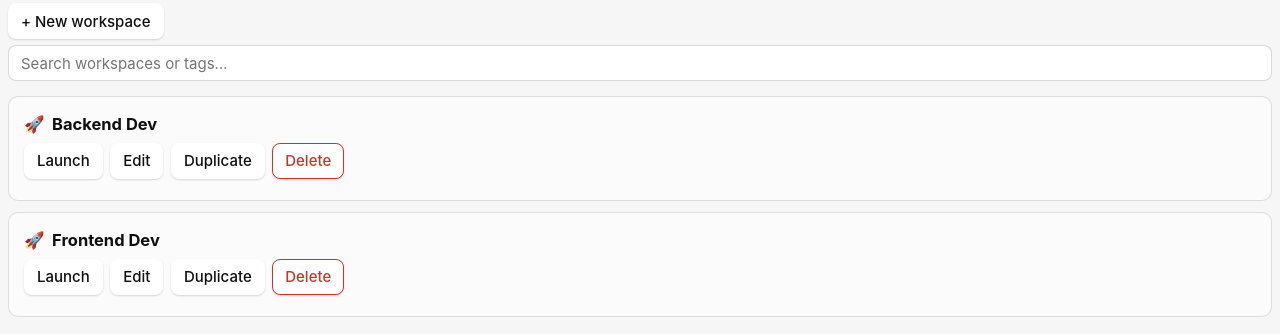
Scenario: WorkspaceList › filters by workspace name
In the field with placeholder "Search workspaces or tags…": (640, 63) [8,45,1272,81], type "Backend"
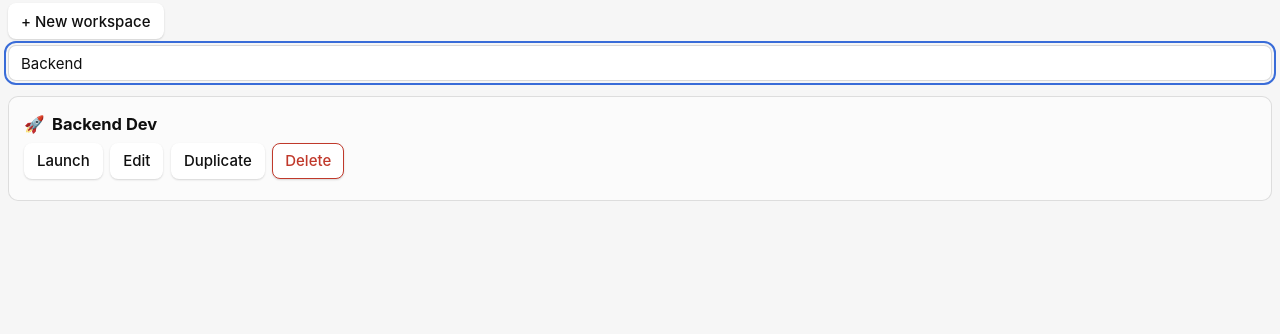
Expected: the text "Backend Dev" is shown, [52,112,157,137]
Expected: the text "Frontend Dev" is gone
